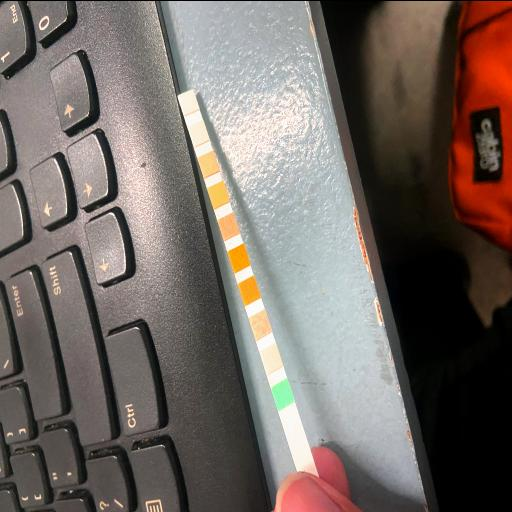Bilirubin: (264, 348, 278, 366)
Blood: (232, 248, 246, 267)
Glucose: (275, 384, 289, 402)
Ketone: (254, 314, 268, 334)
Leukocytes: (182, 92, 194, 108)
Nitrite: (192, 124, 205, 140)
Protein: (212, 184, 224, 202)
SpGravity: (243, 280, 254, 300)
Urobilinogen: (202, 154, 214, 172)
pH: (222, 217, 236, 233)
strip: (178, 88, 314, 468)
